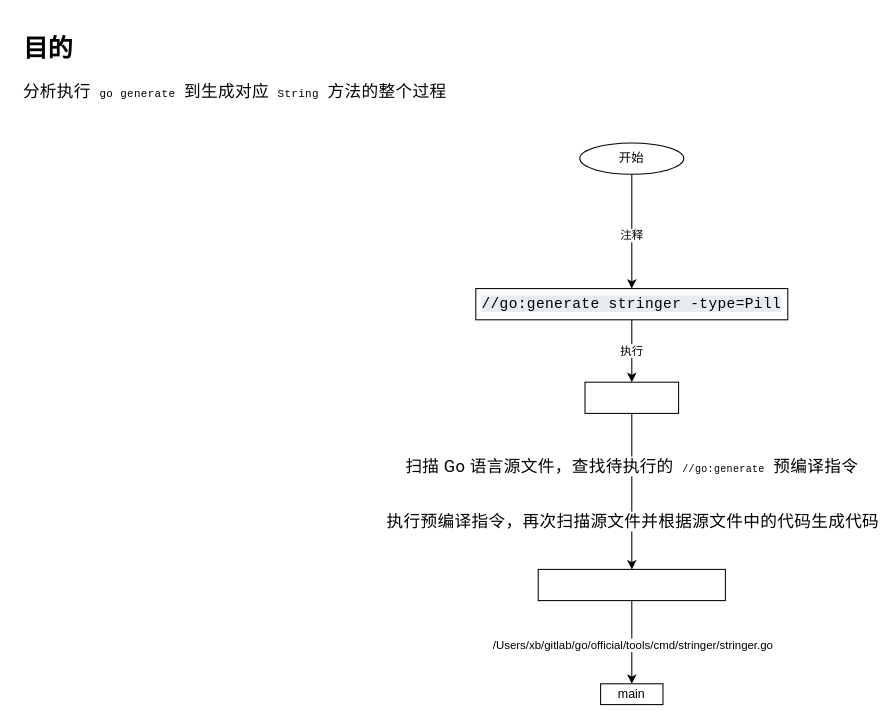
This 896x723 diagram has some shape labels left out. The box of each missing label's shape, as (x1, y1, x2, y2) in pixels:
go generate: (584, 381, 679, 413)
stringer -type=Pill: (537, 568, 725, 601)
